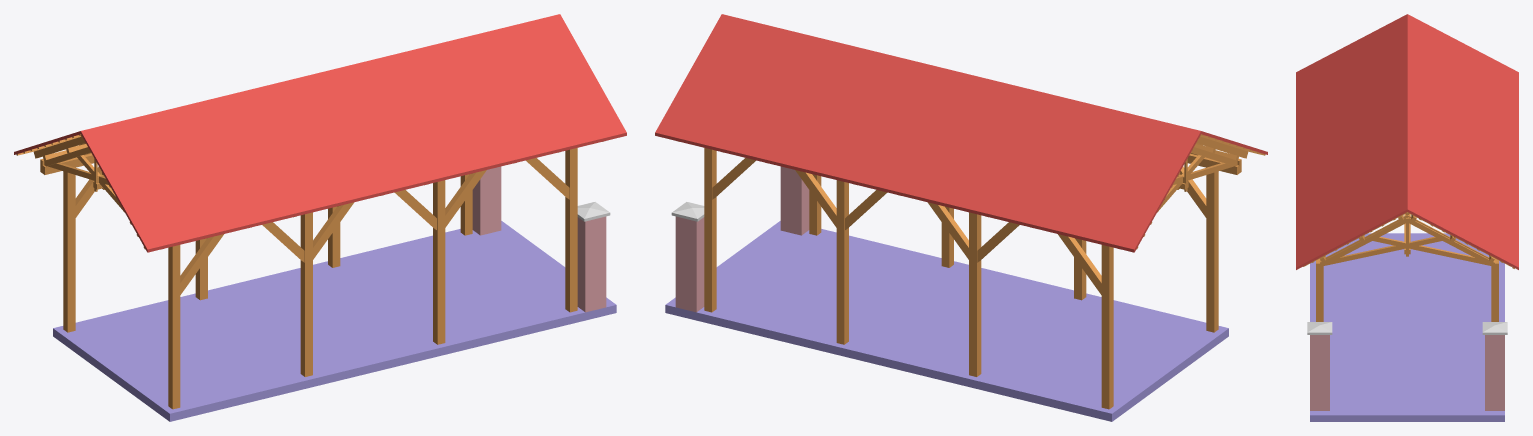
The model's file is Bealloszines.glb.
3 views of the same model, side by side, from view 1: azimuth 30°, elevation 25°; view 2: azimuth 150°, elevation 25°; view 3: azimuth 270°, elevation 25° (orthographic). The views are drawn at different scales.
Visible parts, largest first — view 1: Basic Roof Cerépfedés [372266], Floor Generic 150mm [345445], Tegla piller1 Tegla piller [366826], M_Rectangular Column Oszlop 150 x 150mm [424568], M_Rectangular Column Oszlop 150 x 150mm [345907], M_Rectangular Column Oszlop 150 x 150mm [345906], M_Rectangular Column Oszlop 150 x 150mm [361958], M_Rectangular Column Oszlop 150 x 150mm [424554], Tegla piller Tegla piller [361408], Woodenl Beams Könyökfa 100x150 [363317], Woodenl Beams Könyökfa 100x150 [363316], Woodenl Beams Könyökfa 100x150 [363314]; view 2: Basic Roof Cerépfedés [372266], Floor Generic 150mm [345445], Tegla piller Tegla piller [361408], M_Rectangular Column Oszlop 150 x 150mm [361958], M_Rectangular Column Oszlop 150 x 150mm [345502], M_Rectangular Column Oszlop 150 x 150mm [345499], M_Rectangular Column Oszlop 150 x 150mm [424568], Tegla piller1 Tegla piller [366826], M_Rectangular Column Oszlop 150 x 150mm [345505], Woodenl Beams Könyökfa 100x150 [363121], Woodenl Beams Könyökfa 100x150 [363112], Woodenl Beams Könyökfa 100x150 [350794] (+1 smaller); view 3: Basic Roof Cerépfedés [372266], Floor Generic 150mm [345445], Tegla piller Tegla piller [361408], Tegla piller1 Tegla piller [366826], Woodenl Beams Kereszt fogópár 100x30 [498939], Woodenl Beams Kereszt fogópár 100x30 [498940], Woodenl Beams Fogópár 50x100 [501989], Woodenl Beams Fogópár 50x100 [501991], M_Rectangular Column Oszlop 150 x 150mm [345499], M_Rectangular Column Oszlop 150 x 150mm [345906], Basic Roof Generic - 400mm [372082], Basic Roof Generic - 400mm [372243].
Boxes of the visible parts, bbox=[...] form: Basic Roof Cerépfedés [372266]: bbox=[14, 14, 626, 252]; Floor Generic 150mm [345445]: bbox=[53, 221, 616, 421]; Tegla piller1 Tegla piller [366826]: bbox=[577, 216, 606, 312]; M_Rectangular Column Oszlop 150 x 150mm [424568]: bbox=[168, 245, 180, 409]; M_Rectangular Column Oszlop 150 x 150mm [345907]: bbox=[433, 180, 445, 344]; M_Rectangular Column Oszlop 150 x 150mm [345906]: bbox=[565, 148, 577, 312]; M_Rectangular Column Oszlop 150 x 150mm [361958]: bbox=[63, 171, 75, 332]; M_Rectangular Column Oszlop 150 x 150mm [424554]: bbox=[300, 212, 312, 376]; Tegla piller Tegla piller [361408]: bbox=[472, 166, 501, 235]; Woodenl Beams Könyökfa 100x150 [363317]: bbox=[180, 234, 223, 294]; Woodenl Beams Könyökfa 100x150 [363316]: bbox=[445, 170, 486, 227]; Woodenl Beams Könyökfa 100x150 [363314]: bbox=[313, 202, 353, 259]; Basic Roof Cerépfedés [372266]: bbox=[655, 14, 1267, 252]; Floor Generic 150mm [345445]: bbox=[665, 221, 1228, 421]; Tegla piller Tegla piller [361408]: bbox=[675, 216, 704, 312]; M_Rectangular Column Oszlop 150 x 150mm [361958]: bbox=[1101, 245, 1113, 409]; M_Rectangular Column Oszlop 150 x 150mm [345502]: bbox=[836, 180, 848, 344]; M_Rectangular Column Oszlop 150 x 150mm [345499]: bbox=[704, 148, 716, 312]; M_Rectangular Column Oszlop 150 x 150mm [424568]: bbox=[1206, 171, 1218, 332]; Tegla piller1 Tegla piller [366826]: bbox=[780, 166, 809, 235]; M_Rectangular Column Oszlop 150 x 150mm [345505]: bbox=[969, 212, 981, 376]; Woodenl Beams Könyökfa 100x150 [363121]: bbox=[1058, 234, 1101, 294]; Woodenl Beams Könyökfa 100x150 [363112]: bbox=[795, 170, 836, 227]; Woodenl Beams Könyökfa 100x150 [350794]: bbox=[928, 202, 968, 259]; Basic Roof Cerépfedés [372266]: bbox=[1296, 14, 1518, 269]; Floor Generic 150mm [345445]: bbox=[1310, 233, 1504, 421]; Tegla piller Tegla piller [361408]: bbox=[1485, 335, 1504, 410]; Tegla piller1 Tegla piller [366826]: bbox=[1310, 335, 1329, 410]; Woodenl Beams Kereszt fogópár 100x30 [498939]: bbox=[1373, 236, 1495, 265]; Woodenl Beams Kereszt fogópár 100x30 [498940]: bbox=[1319, 236, 1441, 265]; Woodenl Beams Fogópár 50x100 [501989]: bbox=[1320, 217, 1407, 267]; Woodenl Beams Fogópár 50x100 [501991]: bbox=[1407, 217, 1494, 266]; M_Rectangular Column Oszlop 150 x 150mm [345499]: bbox=[1491, 273, 1498, 321]; M_Rectangular Column Oszlop 150 x 150mm [345906]: bbox=[1316, 273, 1323, 321]; Basic Roof Generic - 400mm [372082]: bbox=[1307, 322, 1332, 334]; Basic Roof Generic - 400mm [372243]: bbox=[1482, 322, 1507, 334].
Bounding box in the file's own units: 9.23 × 4.7 × 4.45.
